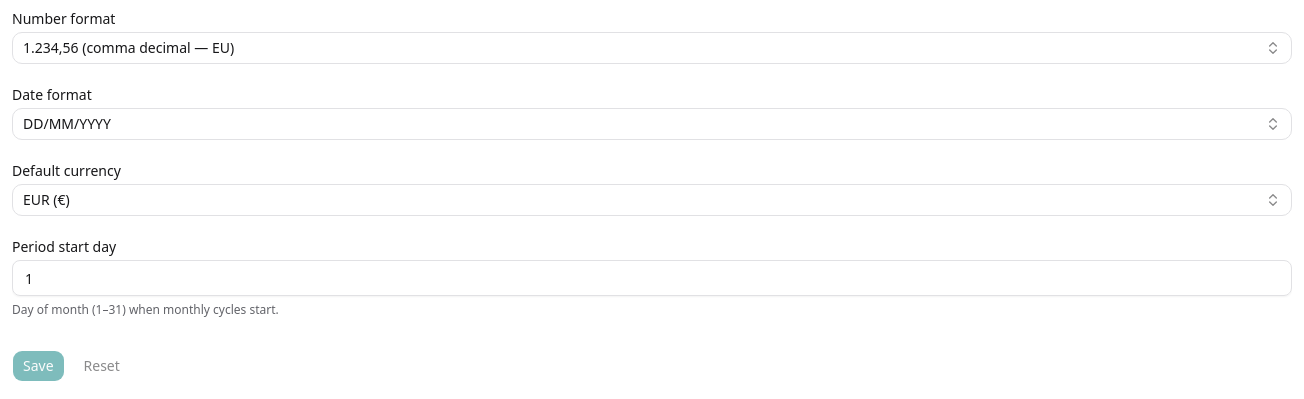
Test: SettingsForm › Reset restores values to the last saved snapshot and re-disables both buttons
Replace the text in the number field labelled "Period start day" with "20": (652, 278) [12,260,1292,296]
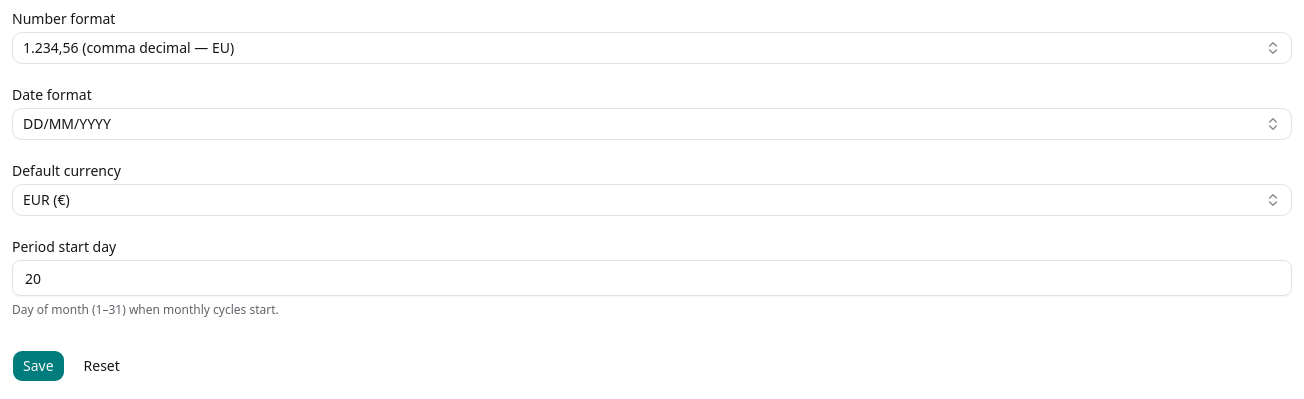
Result: the button "Reset" is enabled
Click the button "Reset": (102, 366) [73,350,131,382]
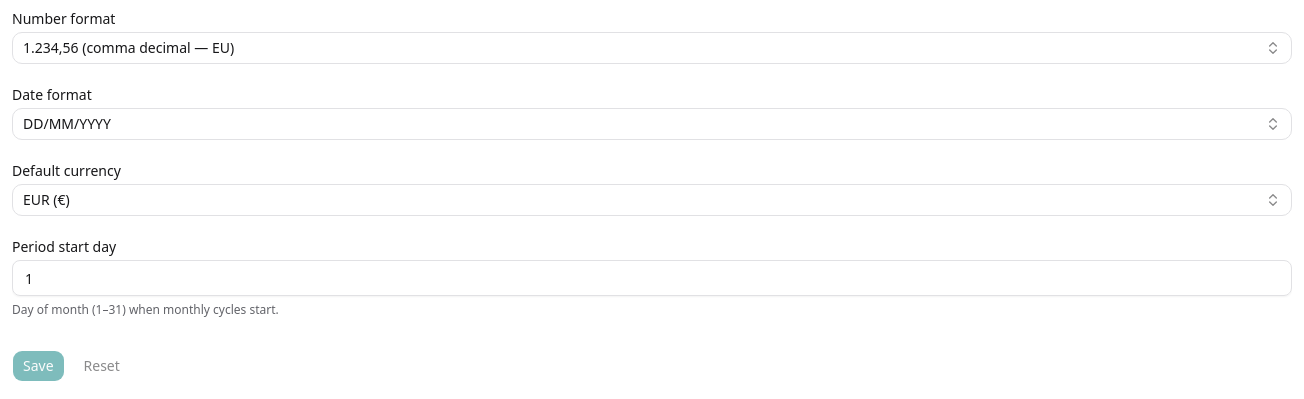
Result: the number field labelled "Period start day" holds "1" at [12,260,1292,296]
Result: the button "Reset" is disabled at [73,350,131,382]
Result: the button "Save" is disabled at [12,350,65,382]
